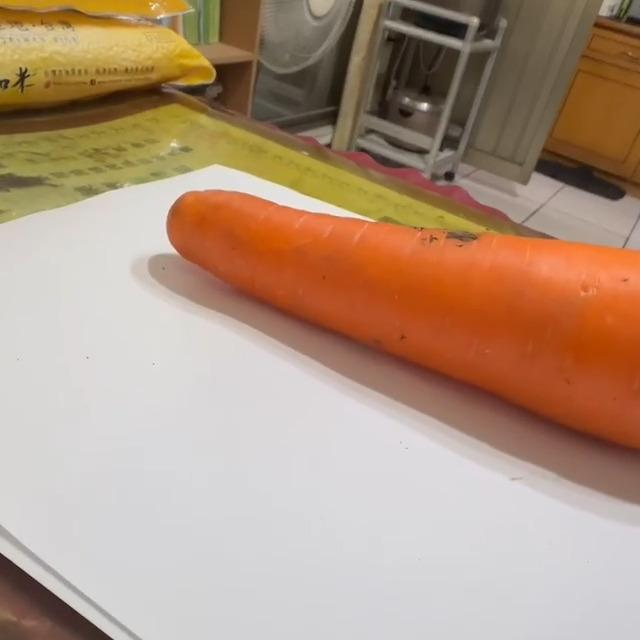carrot: (165, 188, 640, 460)
